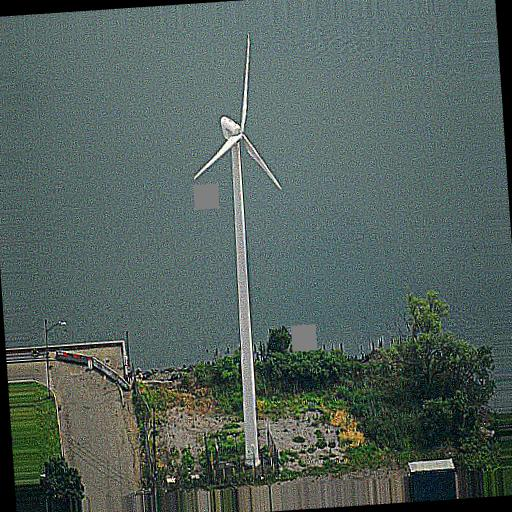wind turbine: (193, 34, 283, 458)
